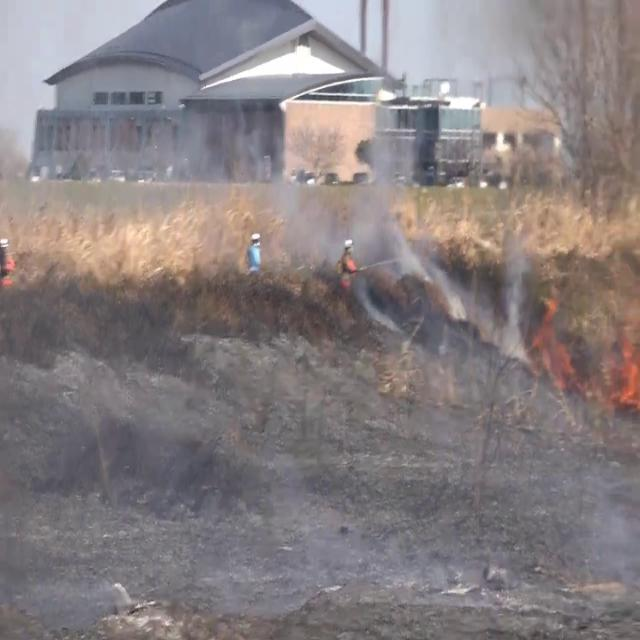Smoke: (94, 98, 303, 232), (275, 109, 422, 277), (498, 224, 534, 359)
